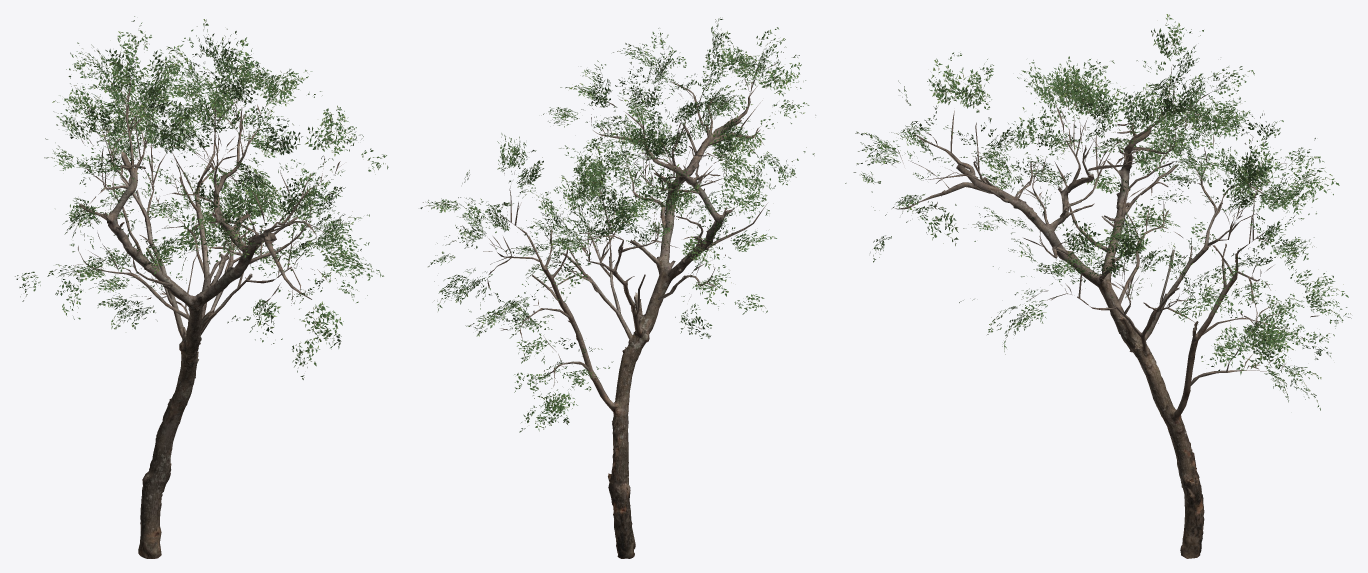
Rendered from garden-tree.glb.
The picture shows the model from 3 angles, left to right: view 1: azimuth 30°, elevation 25°; view 2: azimuth 150°, elevation 25°; view 3: azimuth 270°, elevation 25°; orthographic projection. The views are drawn at different scales.
Parts seen in each view (by area): view 1: tree_small_02_LOD0; view 2: tree_small_02_LOD0; view 3: tree_small_02_LOD0.
Boxes of the visible parts, x1,y1,x2,y2 form: tree_small_02_LOD0: (15, 16, 388, 558); tree_small_02_LOD0: (420, 17, 815, 558); tree_small_02_LOD0: (845, 14, 1351, 558).
Size of the model in its own units: 2.88 by 4.54 by 4.17.
3 materials, 3 textured.
